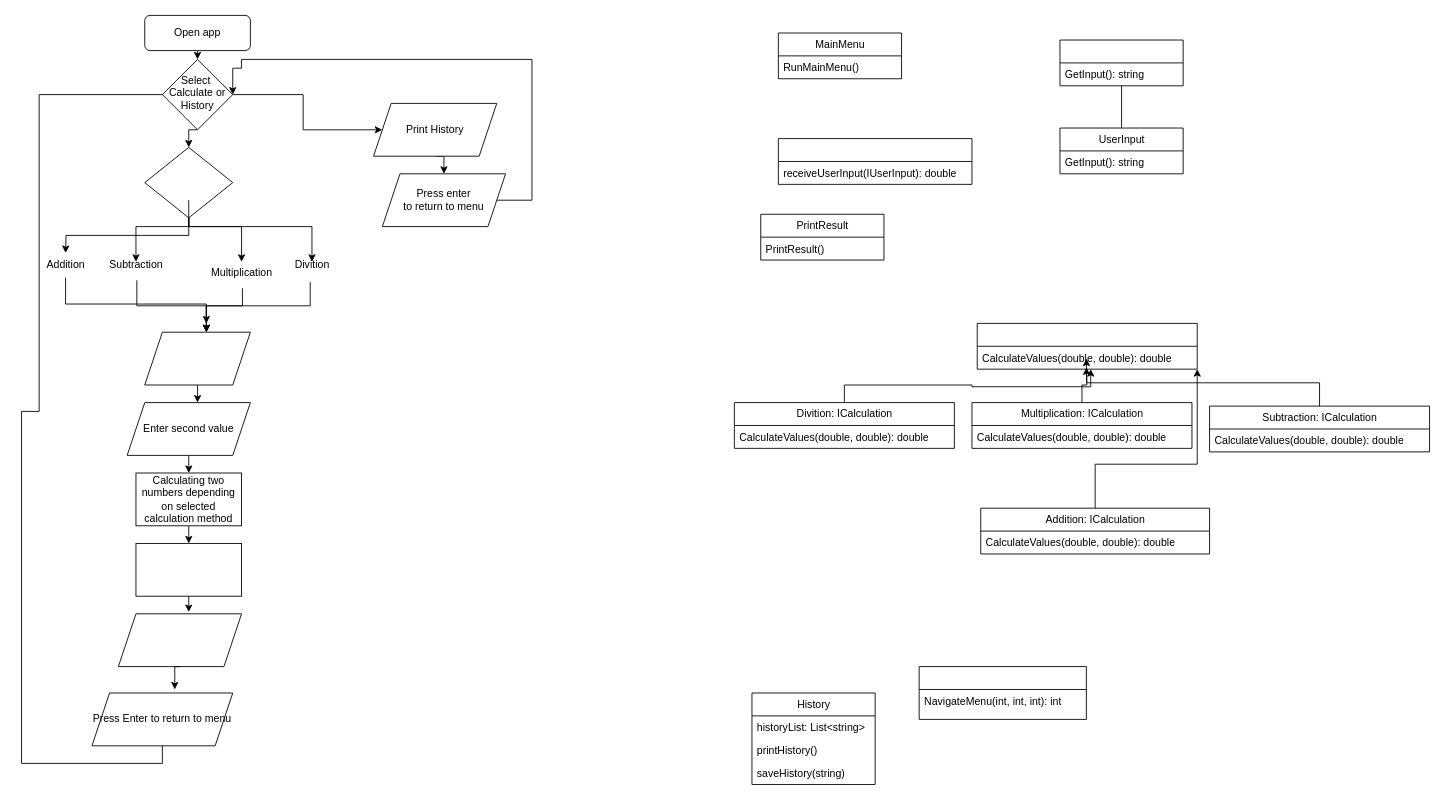
This 1445x803 diagram has some shape labels left out. The box of each missing label's shape, as (x1, y1, x2, y2) in pixels:
Enter first value: (144, 331, 250, 385)
ICalculation: (976, 323, 1197, 369)
InputHandler: (777, 138, 972, 184)
IUserInput: (1059, 39, 1183, 86)
MenuNavigator: (918, 666, 1086, 719)
Print result: (117, 613, 242, 667)
Save calculation in history: (135, 543, 242, 596)
Select Calculation method: (144, 147, 233, 218)
